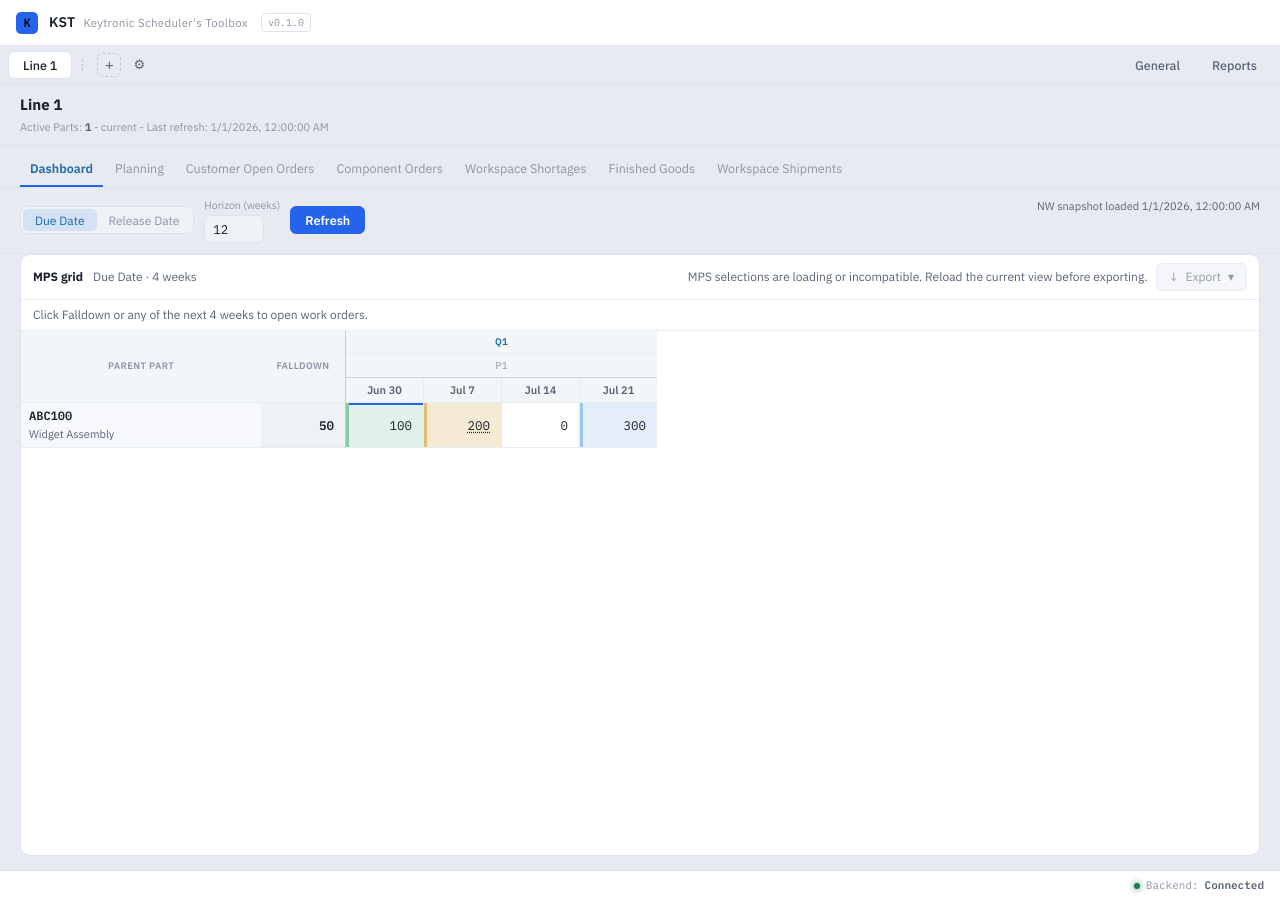
Test case: MpsWorkspace › updates Active Parts from the refreshed Dashboard snapshot and keeps the bottom bar connection-only
Expected: the text "Backend:" reads "Backend: Connected", 1134,877 -> 1264,894
Expected: the text "ABC100" is shown, 29,408 -> 72,423
Click the button "Refresh".
click(328, 220)  # box 290,206 -> 365,234
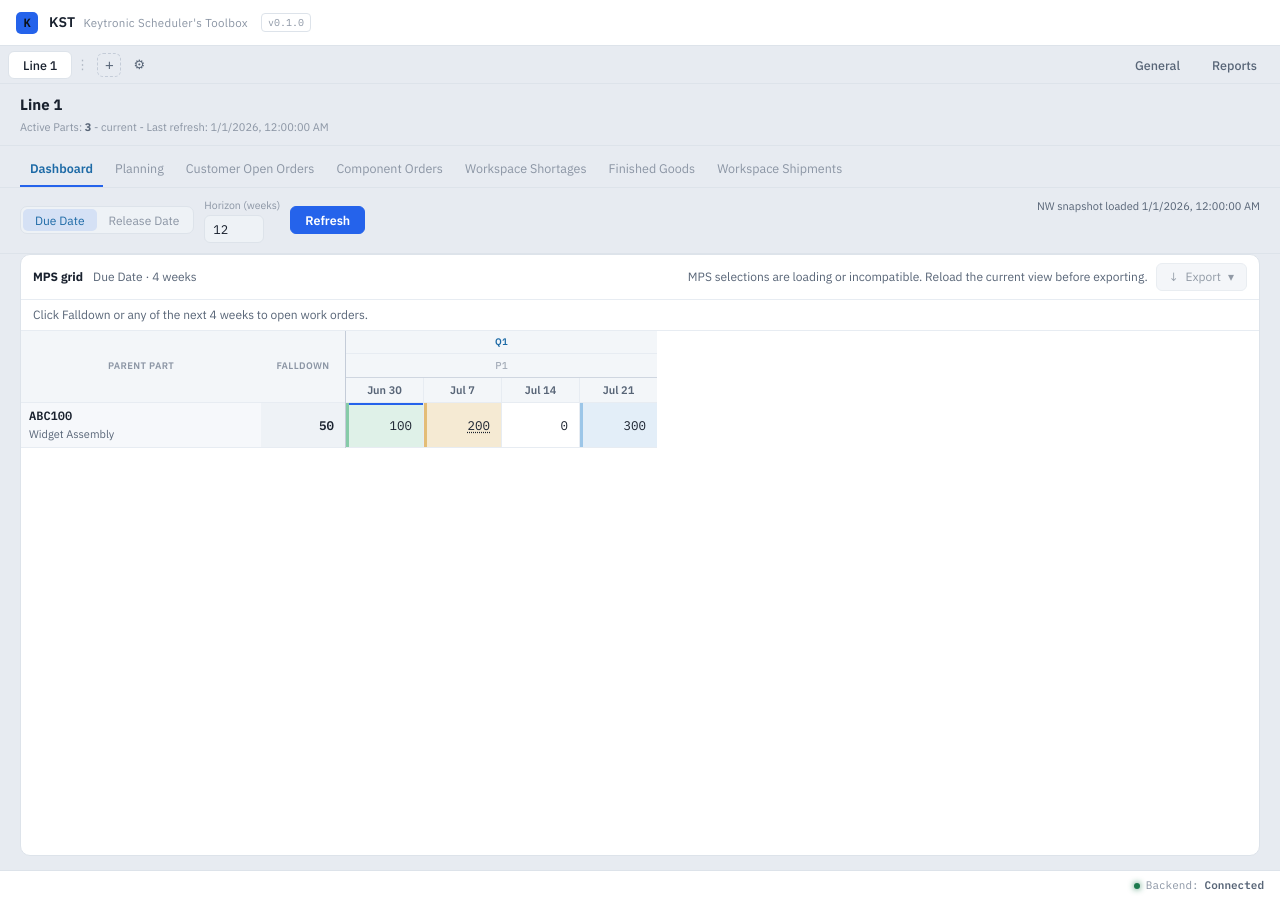
Expected: the footer with class "bottom-bar" reads "Backend: Connected", 0,870 -> 1279,899
Now the text with test id "active-parts-count" reads "3", box 85,120 -> 91,134
